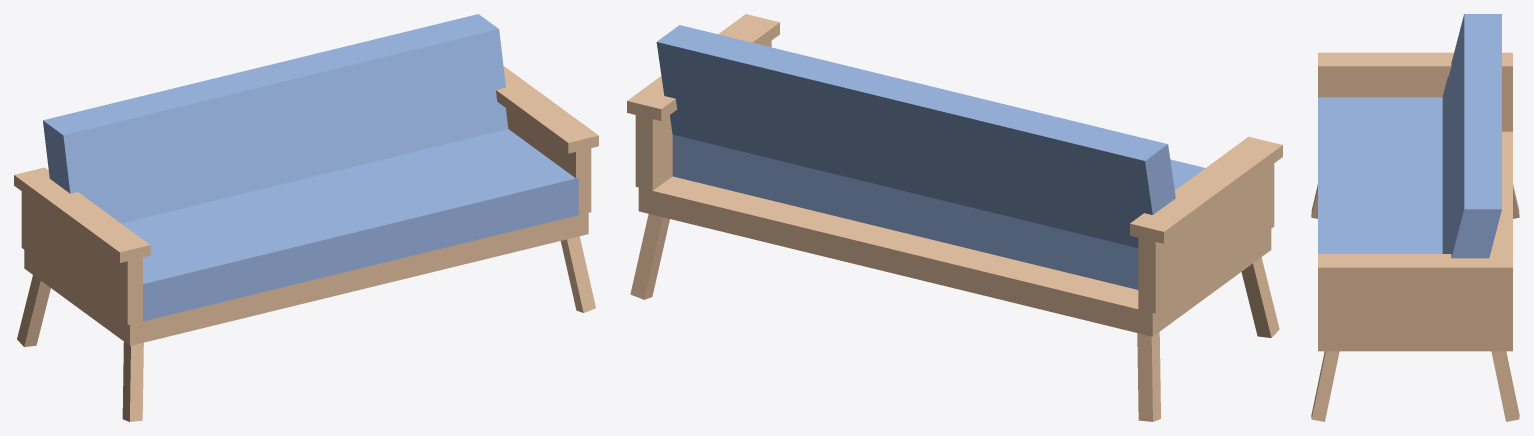
The model's file is sofaMidcentury.glb.
3 views of the same model, side by side, from view 1: azimuth 30°, elevation 25°; view 2: azimuth 150°, elevation 25°; view 3: azimuth 270°, elevation 25° (orthographic). The views are drawn at different scales.
Visible parts, largest first — view 1: sofaMidcentury; view 2: sofaMidcentury; view 3: sofaMidcentury.
Part boxes in pixels (bbox=[...]): sofaMidcentury: bbox=[14, 14, 598, 421]; sofaMidcentury: bbox=[627, 14, 1282, 421]; sofaMidcentury: bbox=[1311, 14, 1519, 421].
Size of the model in its own units: 0.94 by 0.424 by 0.3852.
